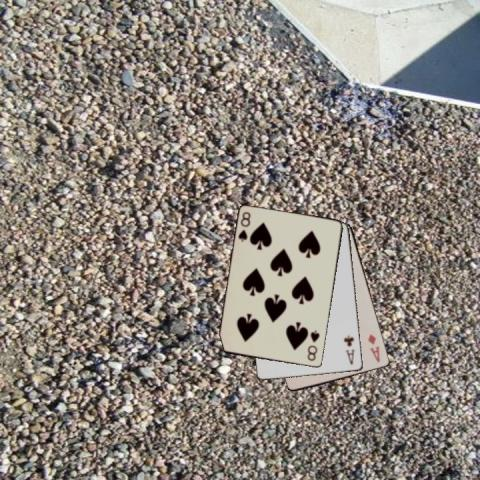8s: (235, 209, 252, 243), (304, 327, 320, 363)
Ac: (341, 333, 356, 366)
Ad: (365, 331, 382, 364)
